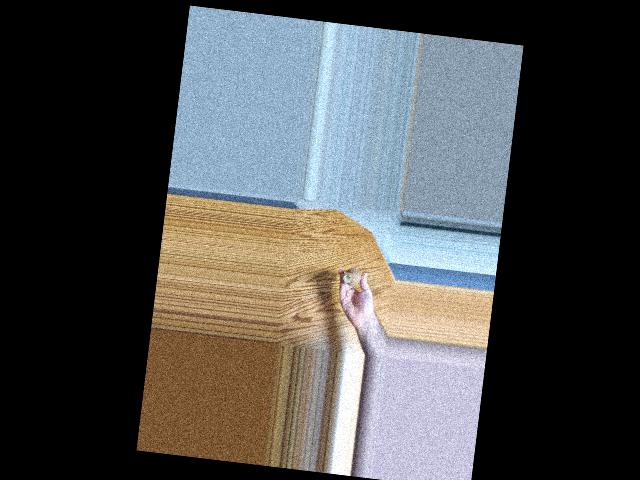sweet_potato: (343, 265, 362, 286)
